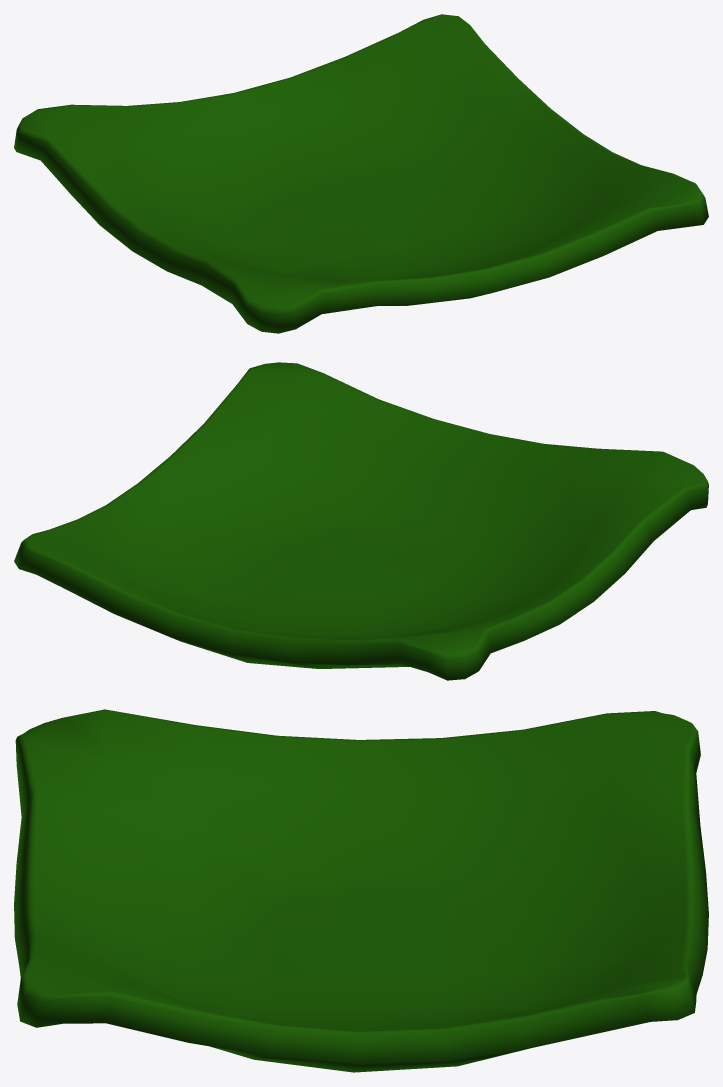
Rendered from SM_Moss_Plate.fbx.
3 views of the same model, one above another, from view 1: azimuth 30°, elevation 25°; view 2: azimuth 150°, elevation 25°; view 3: azimuth 270°, elevation 25° (orthographic). The views are drawn at different scales.
Visible parts, largest first — view 1: Moss_Plate; view 2: Moss_Plate; view 3: Moss_Plate.
Part boxes in pixels (left/top/right/bottom): Moss_Plate: left=14, top=14, right=708, bottom=333; Moss_Plate: left=14, top=362, right=708, bottom=680; Moss_Plate: left=14, top=709, right=708, bottom=1072.
Bounding box in the file's own units: 115 × 21.26 × 115.
